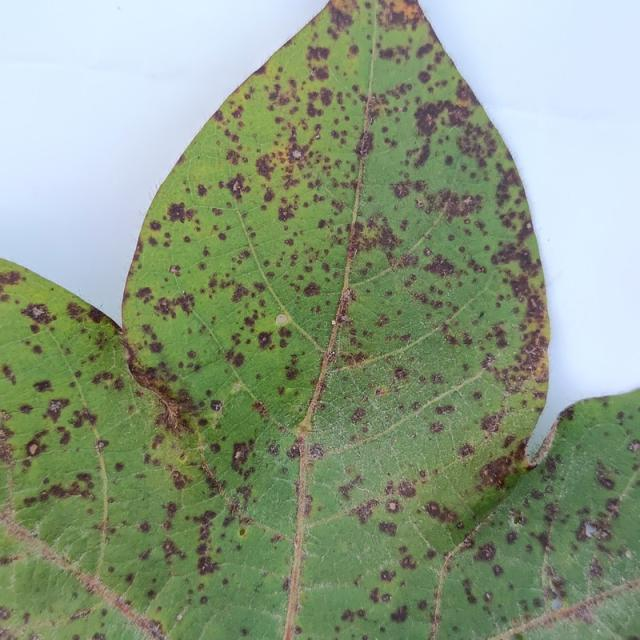Bacterial_Blight: (479, 259, 553, 392), (408, 92, 492, 168), (281, 121, 333, 177), (495, 265, 542, 316), (28, 472, 96, 506), (360, 218, 404, 257), (476, 452, 519, 491), (491, 236, 537, 272), (493, 163, 526, 210), (411, 99, 447, 139), (152, 290, 195, 321), (269, 198, 310, 230), (439, 190, 480, 221), (420, 253, 457, 280), (574, 517, 607, 546), (66, 405, 100, 433), (422, 500, 457, 526), (22, 428, 51, 459), (159, 536, 188, 567), (19, 301, 53, 325), (230, 441, 252, 472), (44, 398, 70, 424), (352, 498, 379, 523), (412, 139, 432, 169), (255, 153, 277, 180), (594, 465, 617, 490), (305, 44, 331, 66), (166, 201, 190, 224), (224, 175, 246, 199), (197, 554, 220, 575), (480, 412, 502, 433), (355, 131, 373, 156), (230, 283, 252, 303), (475, 542, 496, 562), (316, 87, 335, 109), (86, 306, 108, 325), (304, 276, 321, 300), (389, 604, 409, 624), (283, 360, 302, 381), (0, 269, 23, 286), (170, 471, 189, 490), (256, 330, 274, 350), (1, 364, 17, 386), (134, 285, 153, 303), (398, 481, 417, 499), (378, 520, 398, 537), (32, 378, 54, 393), (288, 145, 305, 163), (458, 442, 475, 458), (400, 554, 417, 570), (385, 498, 402, 514), (230, 351, 245, 369), (286, 444, 302, 460), (261, 187, 276, 204), (434, 404, 456, 415), (379, 569, 396, 583), (70, 609, 89, 621), (310, 443, 324, 459), (148, 340, 163, 354), (426, 502, 441, 516), (417, 70, 431, 84), (429, 421, 444, 434), (148, 219, 162, 232), (341, 609, 354, 623), (506, 530, 518, 545), (0, 606, 12, 621), (341, 288, 353, 303), (196, 183, 208, 197), (95, 439, 109, 451), (210, 399, 223, 411), (492, 564, 504, 577), (627, 440, 640, 452), (268, 444, 280, 456), (49, 401, 61, 413), (375, 386, 388, 397), (113, 461, 125, 472), (169, 264, 181, 275), (513, 515, 524, 525), (381, 593, 391, 603), (199, 595, 208, 605), (484, 593, 493, 602), (463, 197, 472, 206), (240, 628, 249, 636), (2, 412, 11, 420), (71, 591, 78, 600), (239, 528, 246, 536), (425, 249, 431, 256)
Cotton: (0, 0, 639, 639)
